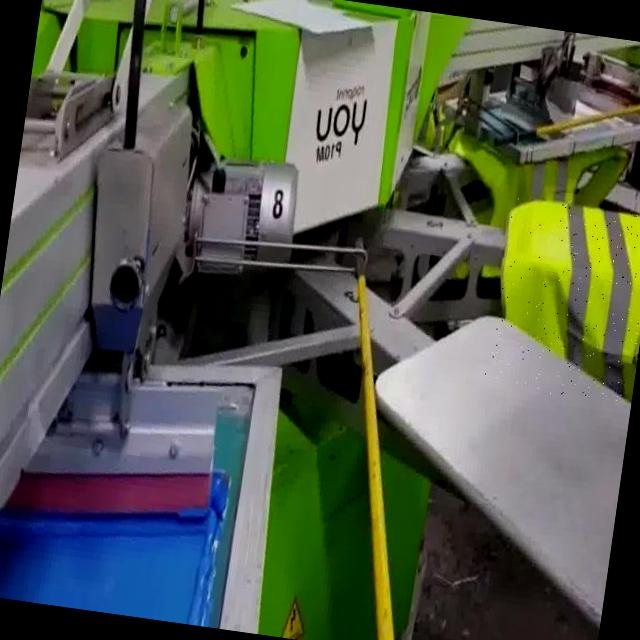vest: (482, 195, 640, 406)
